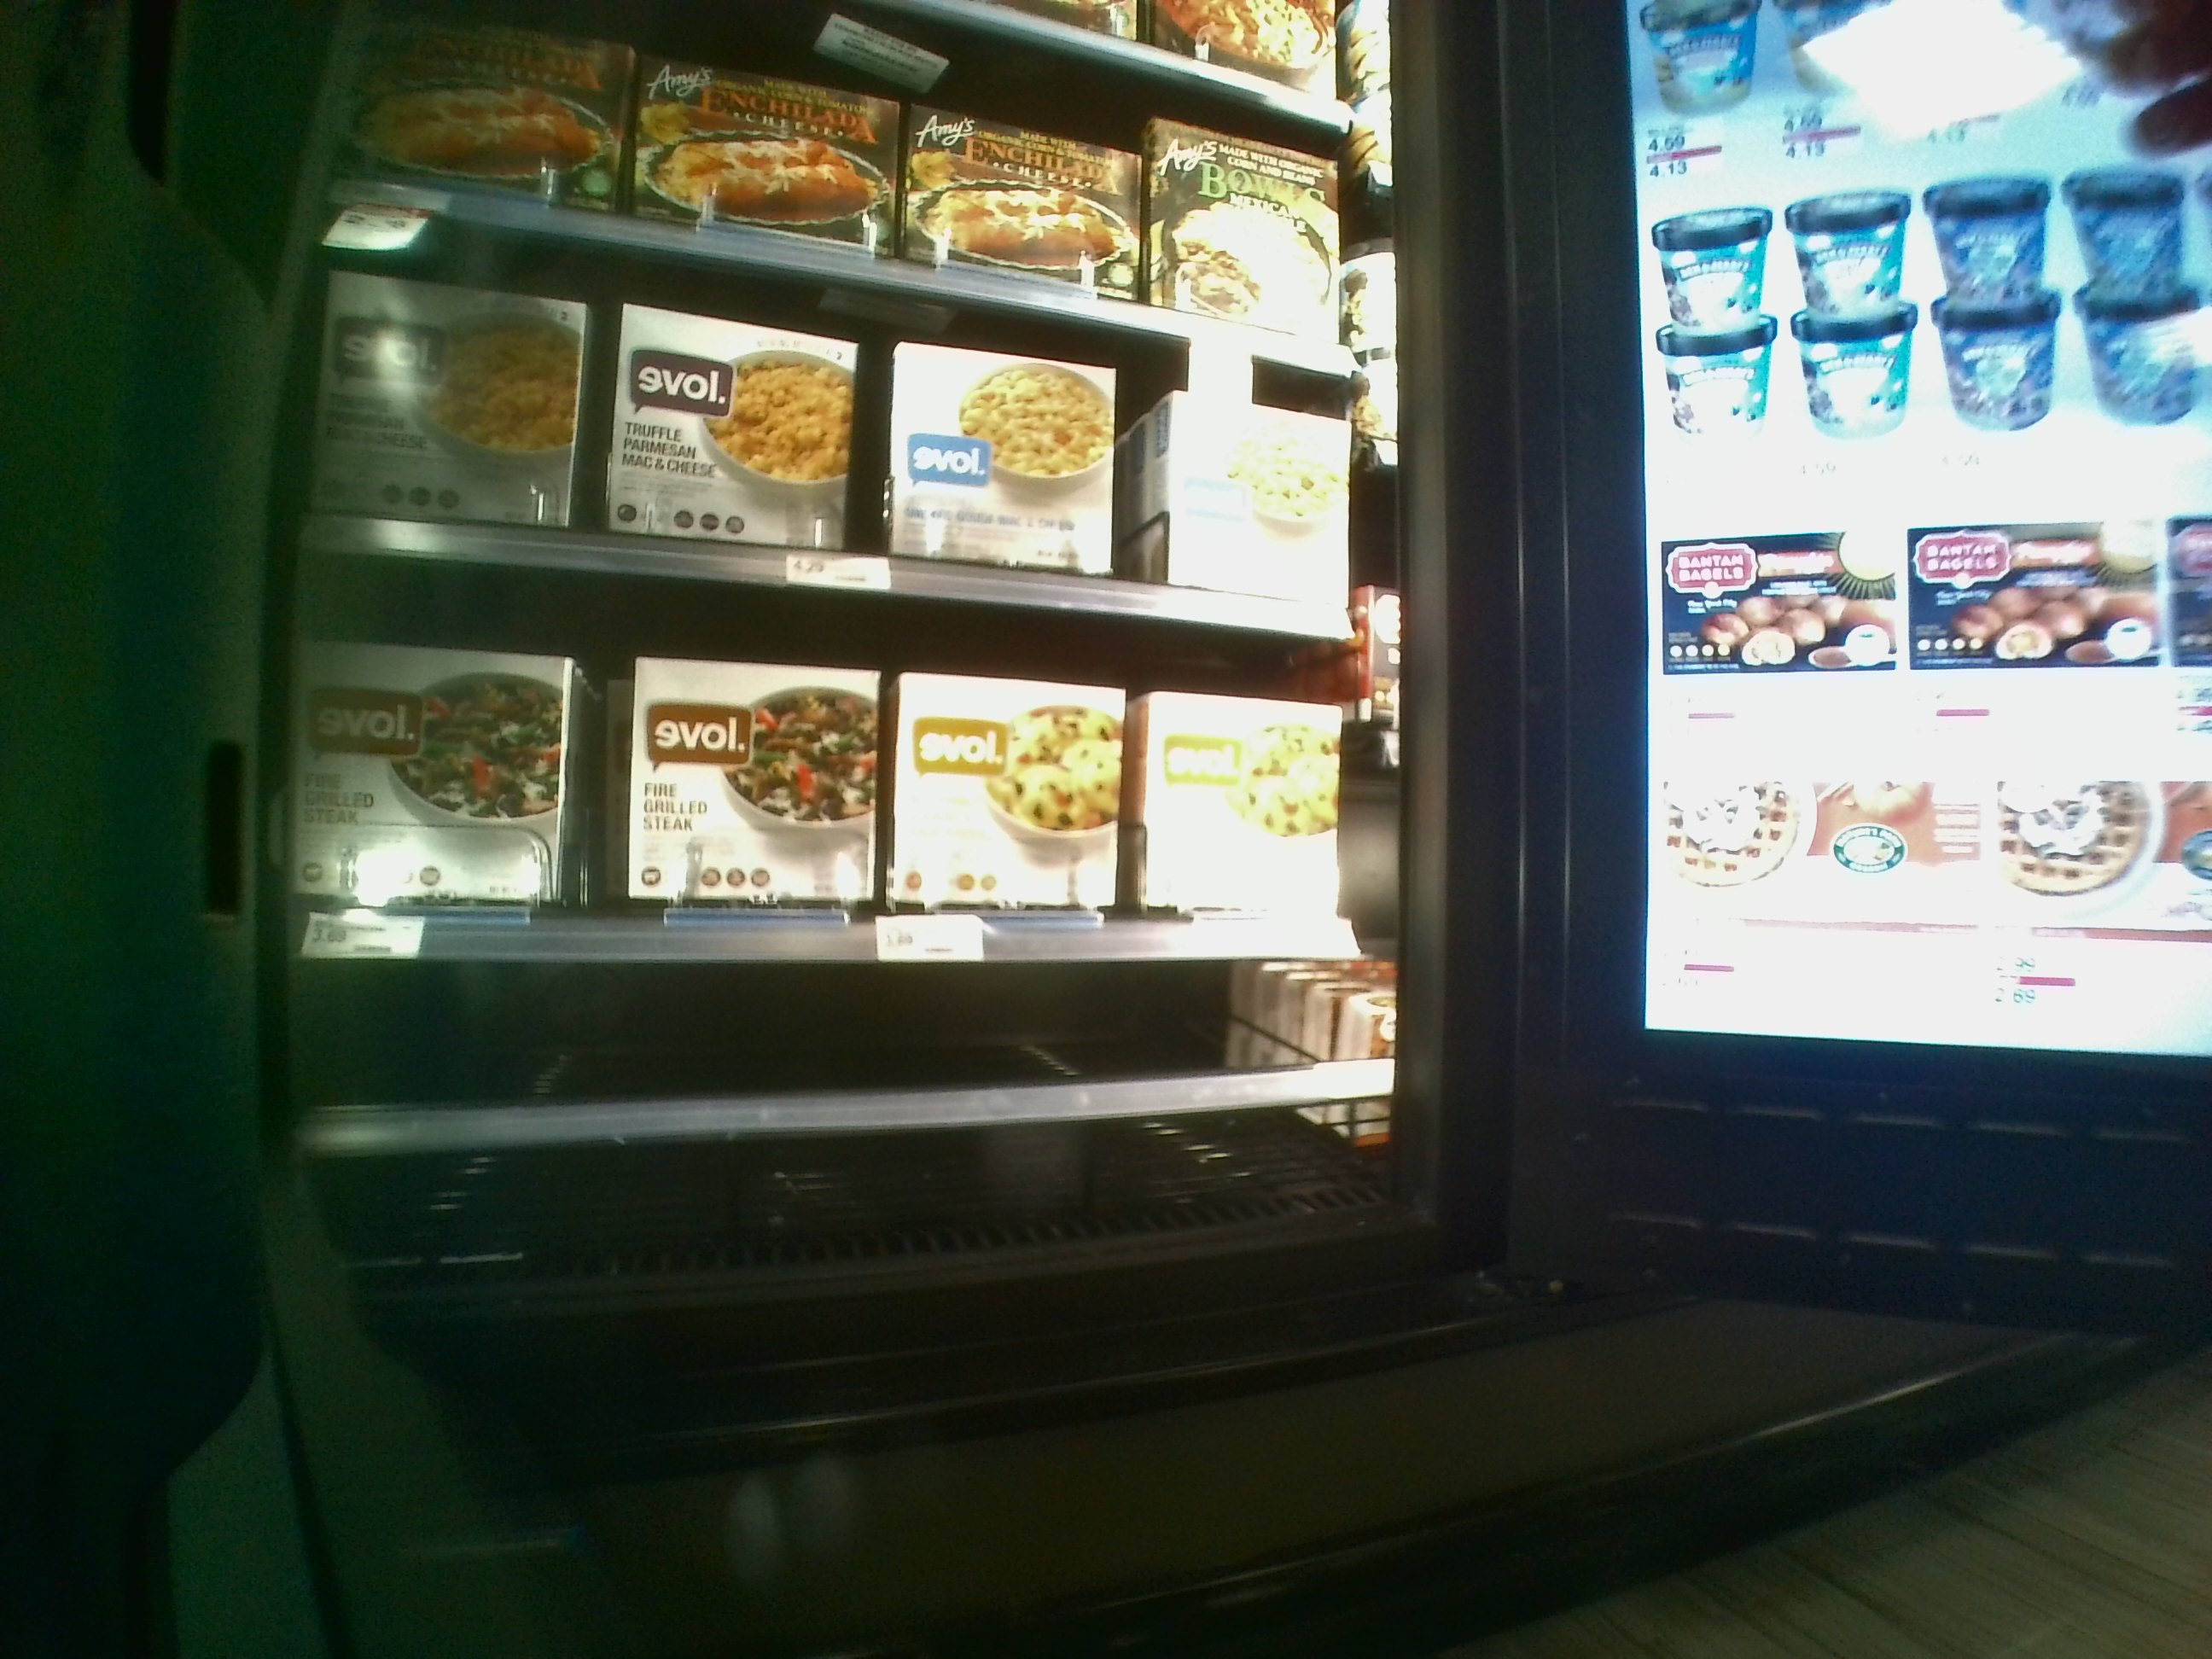shelf: (293, 624, 1397, 958), (310, 951, 1383, 1256), (327, 319, 1372, 620)
